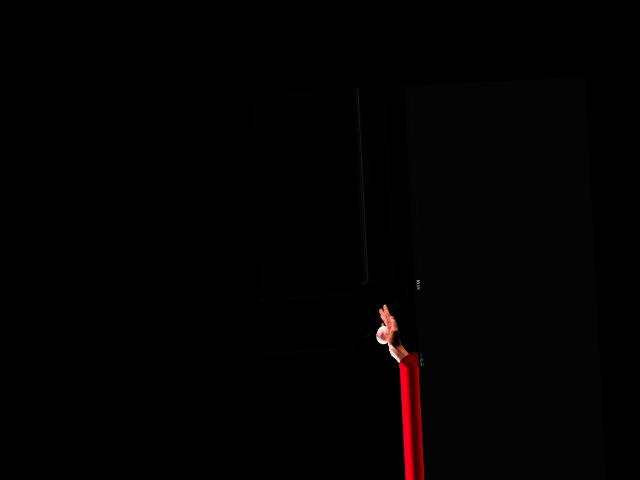egg: (376, 326, 389, 345)
